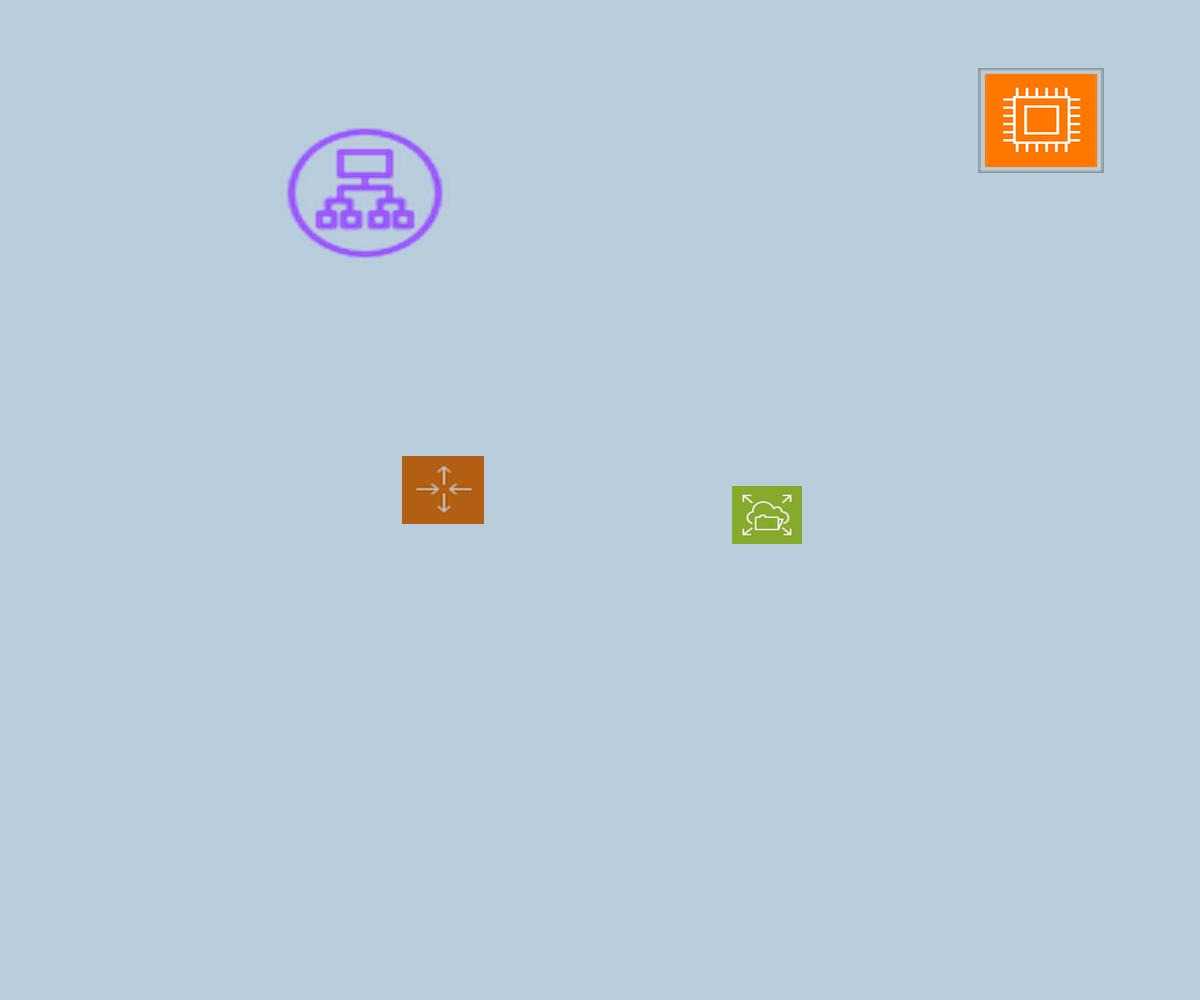AWS-Category_Compute: (978, 68, 1104, 173)
AWS-EFS: (732, 486, 802, 544)
AWS-Res_Elastic-Load-Balancing_Application-Load-Balancer: (281, 123, 449, 263)
AWS-Scaling-group: (402, 456, 484, 524)
